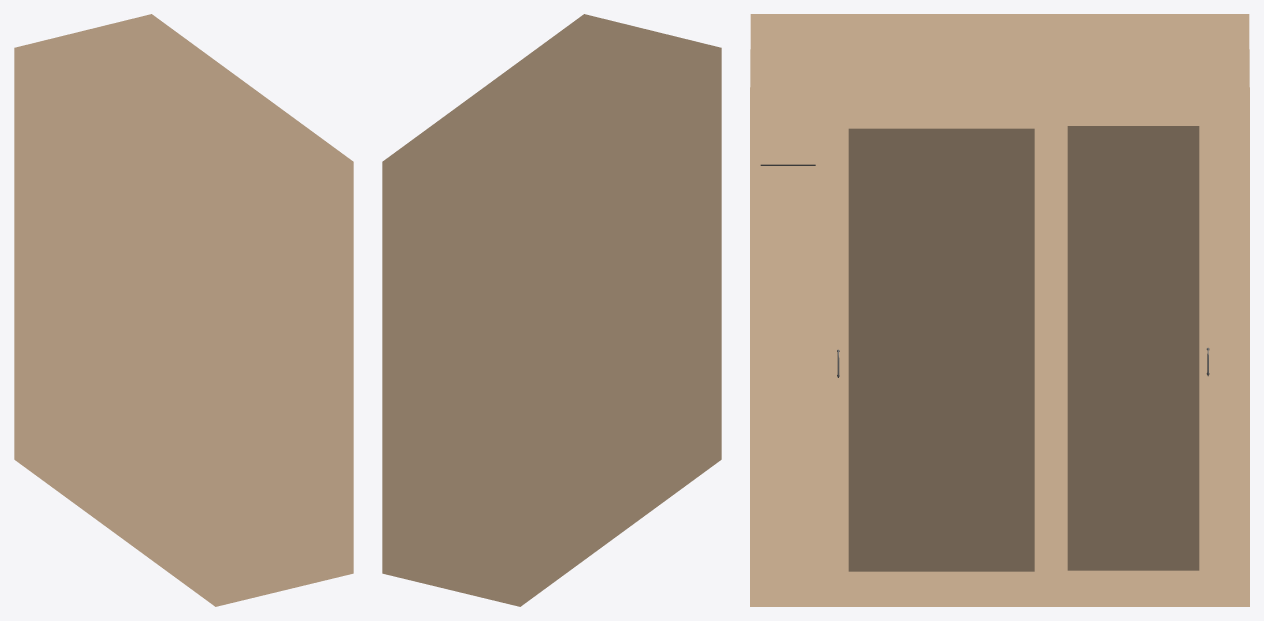
File: wardrobes.dae
The picture shows the model from 3 angles, left to right: view 1: azimuth 30°, elevation 25°; view 2: azimuth 150°, elevation 25°; view 3: azimuth 270°, elevation 25°; orthographic projection. The views are drawn at different scales.
Visible parts, largest first — view 1: sliding_wardrobe; view 2: sliding_wardrobe; view 3: sliding_wardrobe.
Part boxes in pixels (bbox=[...]): sliding_wardrobe: bbox=[14, 14, 353, 606]; sliding_wardrobe: bbox=[382, 14, 721, 606]; sliding_wardrobe: bbox=[750, 14, 1249, 606].
Size of the model in its own units: 0.7174 by 1.78 by 2.
